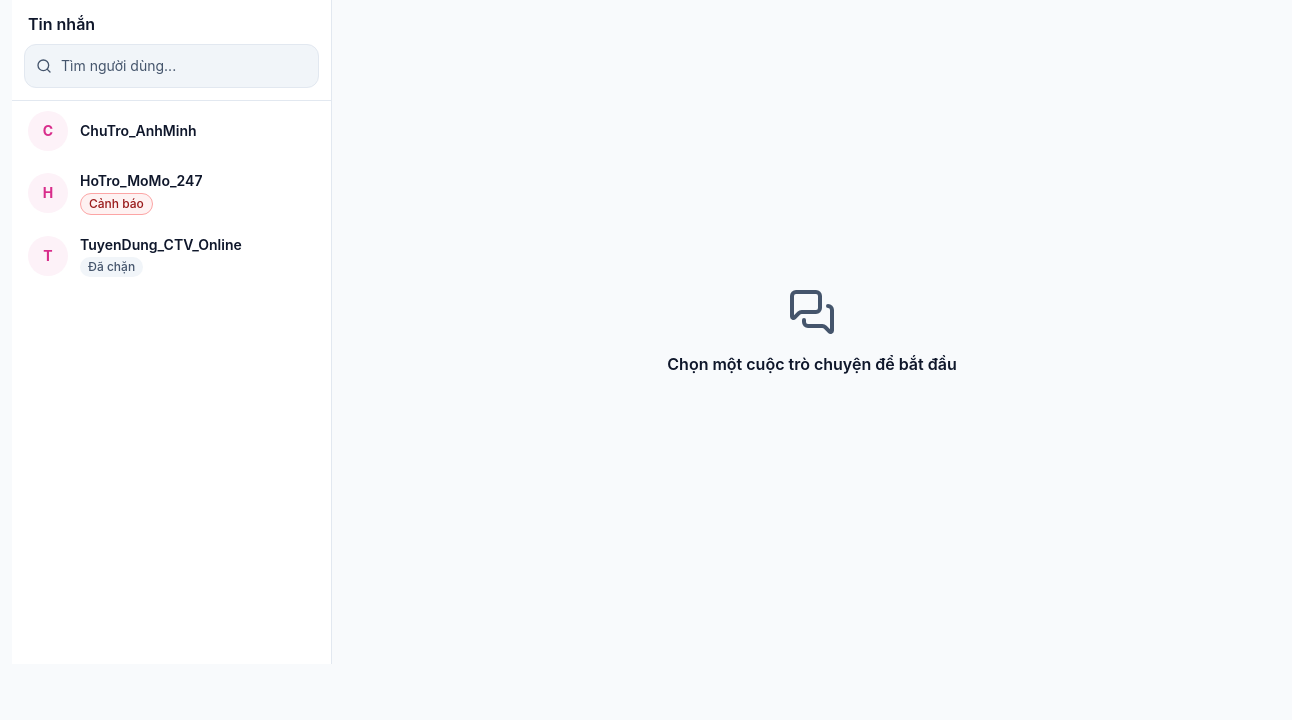
Scenario: ChatPage: mở cuộc trò chuyện › tải lịch sử lỗi thì hiện Thử lại và tải lại được
Click the button "C ChuTro_AnhMinh": (172, 131) [12,101,331,161]
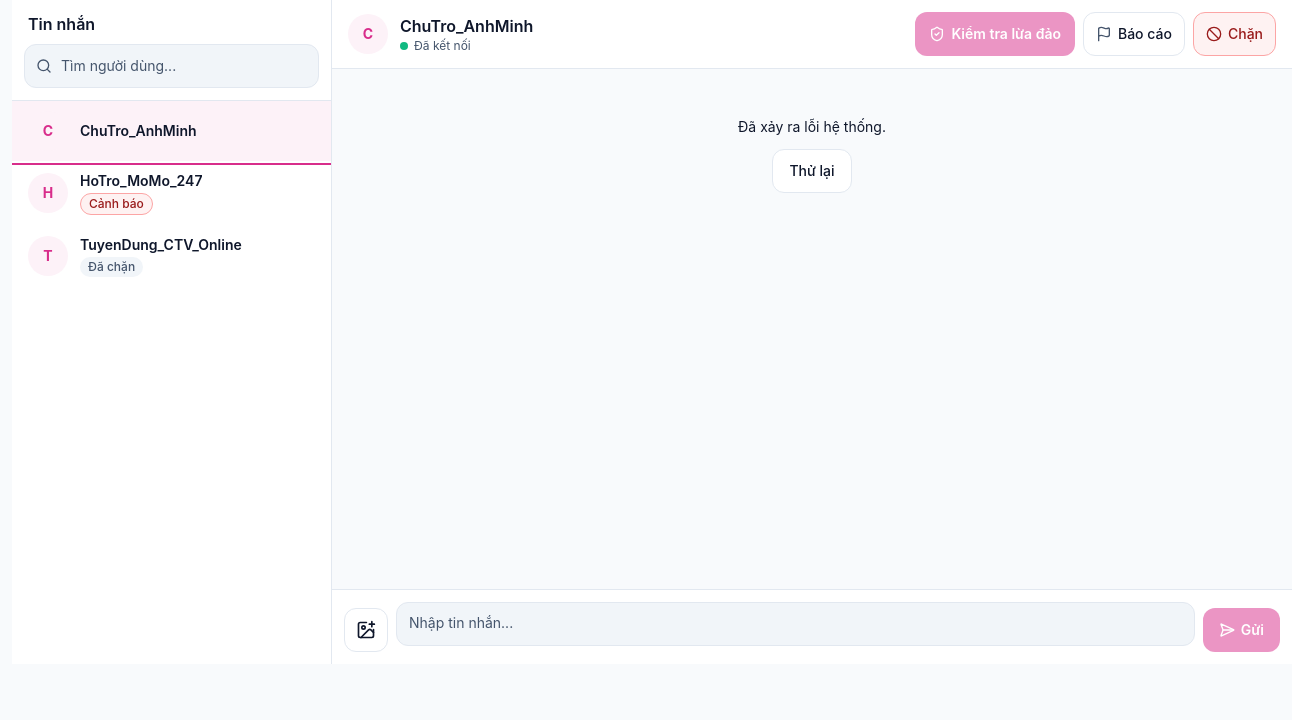
Check: the text "Đã xảy ra lỗi hệ thống." is shown, box [738,118,886,135]
Click the button "Thử lại": (812, 171) [772,149,852,193]
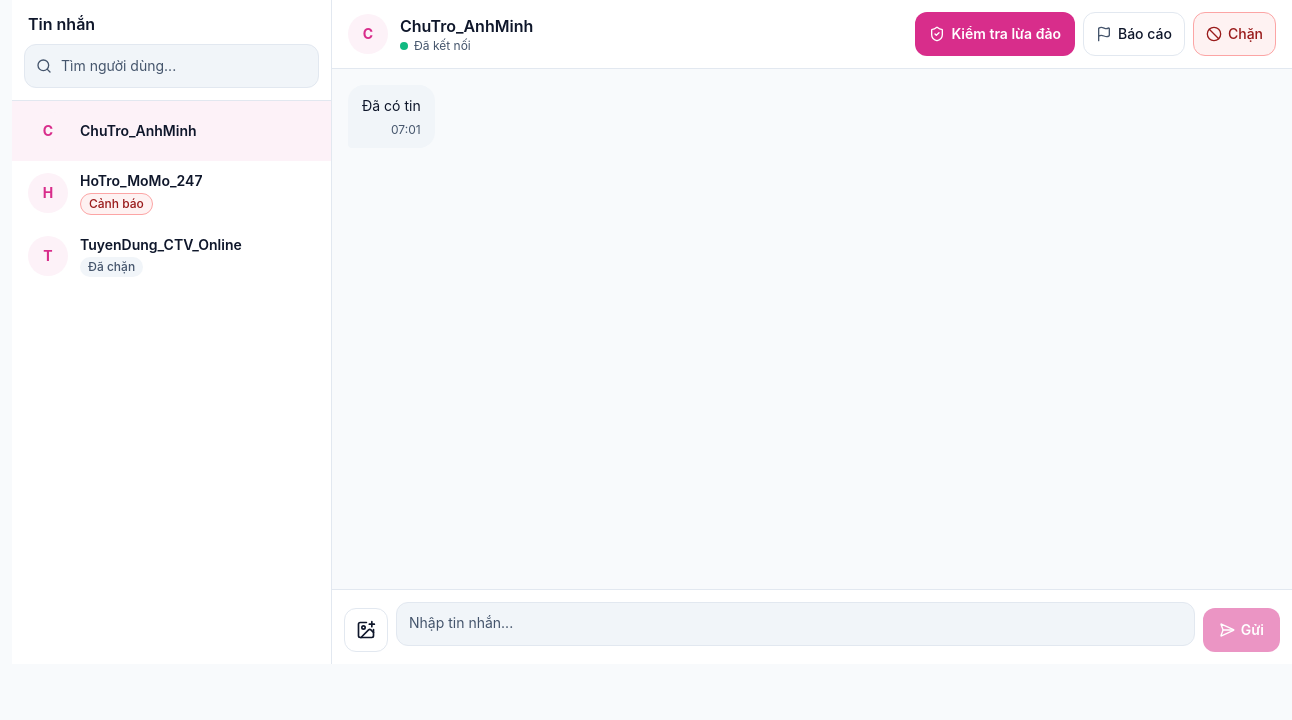
Check: the text "Đã có tin" is shown, box [362,95,421,118]
